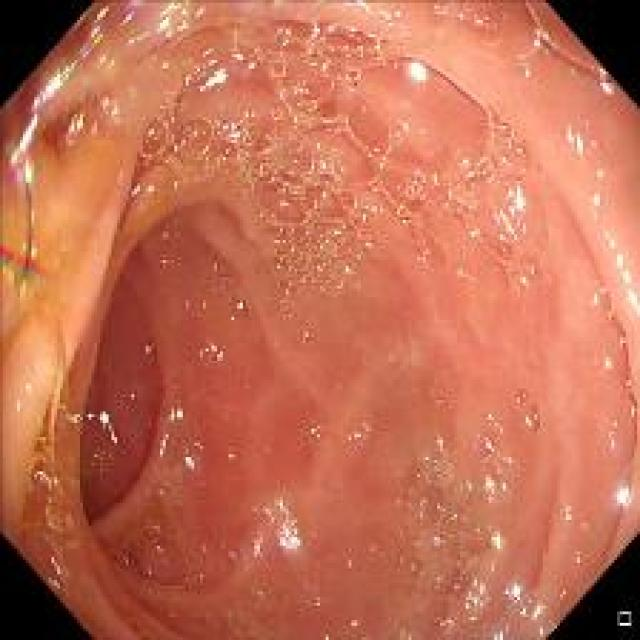bubbles: (130, 49, 558, 321), (355, 52, 489, 178), (126, 95, 280, 194), (524, 4, 619, 85), (116, 516, 199, 598), (390, 426, 449, 530), (398, 542, 459, 632), (594, 306, 631, 396), (472, 425, 516, 490), (125, 366, 159, 438), (605, 392, 634, 465), (508, 380, 545, 436), (428, 5, 492, 36), (155, 1, 208, 34), (190, 332, 226, 375), (160, 398, 192, 430), (294, 325, 324, 355), (342, 419, 366, 454), (214, 436, 241, 466), (250, 581, 275, 610), (305, 416, 328, 442), (432, 394, 449, 411)
color misalignment: (2, 1, 124, 150), (59, 2, 111, 79), (6, 140, 30, 306), (30, 428, 62, 516), (80, 406, 115, 481), (274, 25, 376, 44), (50, 99, 84, 154), (92, 90, 126, 131), (118, 0, 151, 30), (46, 550, 69, 591)
specularity: (252, 499, 302, 556), (602, 230, 636, 309), (494, 178, 528, 244), (500, 576, 548, 619), (34, 70, 81, 108), (152, 2, 205, 35), (346, 0, 404, 28), (11, 118, 38, 162), (44, 549, 71, 591), (564, 114, 588, 161), (480, 521, 514, 551), (468, 564, 488, 614), (610, 476, 632, 512), (222, 111, 248, 139), (312, 156, 344, 178), (409, 564, 441, 586), (585, 191, 605, 222), (369, 544, 405, 560), (99, 412, 118, 442), (405, 59, 429, 82), (596, 62, 612, 94), (484, 479, 508, 500), (202, 339, 224, 361), (210, 66, 231, 88), (532, 29, 550, 52), (182, 450, 198, 471), (460, 156, 475, 178), (131, 182, 154, 195), (159, 430, 169, 459), (94, 5, 111, 20), (485, 435, 498, 452), (589, 292, 602, 309), (515, 275, 532, 288), (490, 628, 509, 638), (308, 425, 322, 438), (600, 354, 612, 369), (502, 455, 516, 466), (232, 300, 246, 311), (345, 431, 360, 441), (365, 230, 372, 251), (244, 108, 256, 119), (615, 336, 625, 349), (341, 264, 352, 275), (436, 434, 444, 448), (14, 400, 24, 411), (350, 619, 359, 628), (468, 615, 479, 622), (22, 382, 31, 390)
